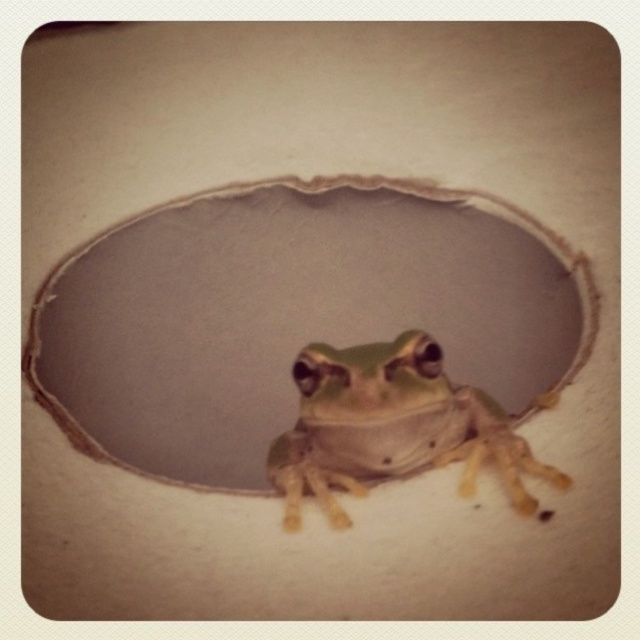Frog: (259, 328, 577, 531)
